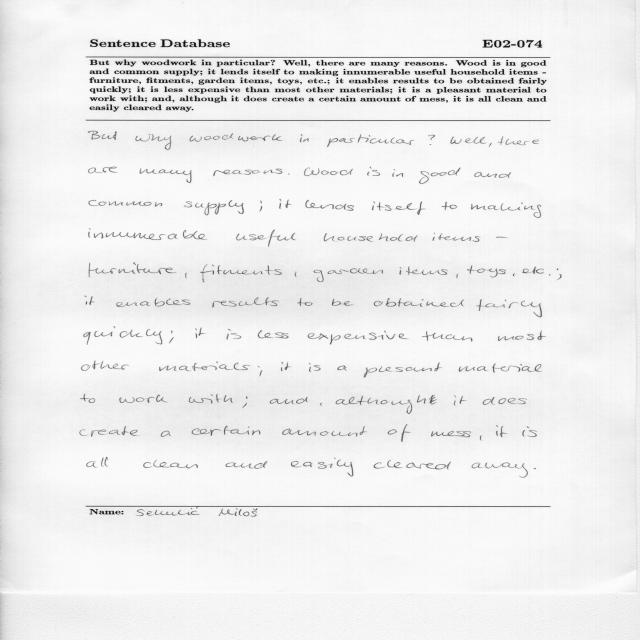word: (336, 395, 437, 414), (200, 265, 282, 283), (89, 228, 207, 240), (84, 327, 162, 345), (308, 331, 408, 345), (89, 263, 177, 277), (190, 133, 283, 146), (476, 300, 542, 318), (291, 458, 353, 477), (364, 363, 442, 378), (471, 202, 541, 218), (236, 230, 296, 247), (314, 269, 383, 283), (159, 362, 250, 372), (184, 201, 244, 216), (283, 426, 367, 436), (472, 463, 528, 478), (324, 233, 417, 242), (374, 298, 464, 307), (327, 134, 389, 147), (374, 460, 451, 470), (372, 201, 426, 215), (459, 364, 542, 373), (116, 297, 190, 307), (140, 169, 192, 183), (213, 297, 279, 308), (192, 426, 260, 436), (419, 168, 461, 184), (80, 426, 138, 437), (135, 134, 172, 150), (422, 331, 473, 342), (305, 200, 354, 211), (89, 200, 162, 207), (214, 169, 283, 176), (498, 331, 546, 341), (82, 361, 129, 371), (467, 265, 506, 277), (399, 266, 448, 275), (391, 135, 435, 145), (143, 461, 198, 469), (432, 233, 480, 242), (189, 394, 233, 403), (388, 424, 410, 442), (304, 168, 353, 176), (119, 395, 168, 403), (498, 136, 539, 145), (482, 397, 527, 405), (226, 461, 268, 469), (450, 136, 486, 144), (258, 330, 289, 339), (88, 131, 117, 140), (270, 397, 307, 404), (523, 267, 551, 276), (431, 431, 471, 437), (474, 172, 511, 178), (87, 458, 108, 468), (89, 167, 117, 173), (523, 426, 538, 437), (332, 299, 353, 306), (227, 329, 241, 339), (81, 394, 96, 403), (496, 425, 507, 437), (454, 396, 467, 406), (279, 199, 291, 209), (442, 202, 457, 210), (298, 298, 313, 306), (367, 167, 380, 176), (195, 328, 205, 339), (309, 363, 321, 372), (392, 169, 403, 178), (85, 296, 95, 305), (281, 362, 291, 371), (300, 134, 309, 142), (242, 397, 248, 408), (160, 431, 171, 437), (169, 331, 174, 344), (337, 366, 347, 371), (557, 269, 561, 280), (258, 366, 262, 376), (260, 201, 263, 212), (489, 143, 492, 147), (496, 237, 507, 238), (185, 273, 187, 278), (295, 272, 297, 277), (480, 436, 482, 441), (456, 274, 458, 278), (513, 273, 515, 276), (320, 403, 322, 406), (288, 173, 290, 175), (534, 468, 536, 469)
